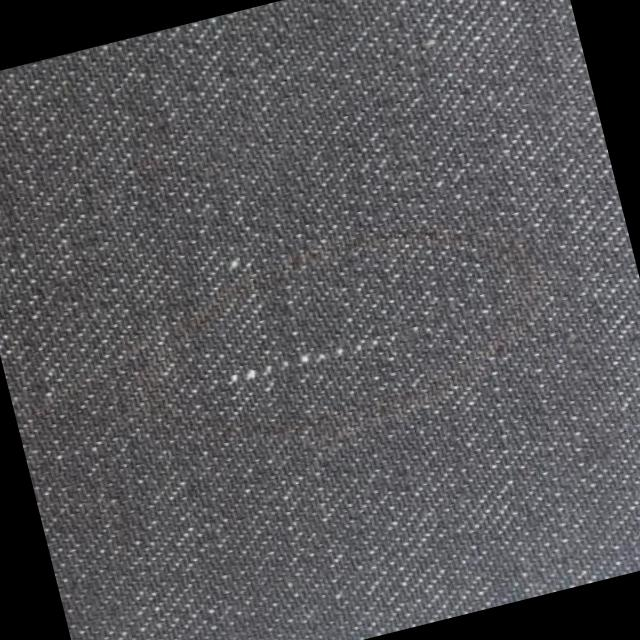Warp_Weft: (172, 316, 440, 407)
